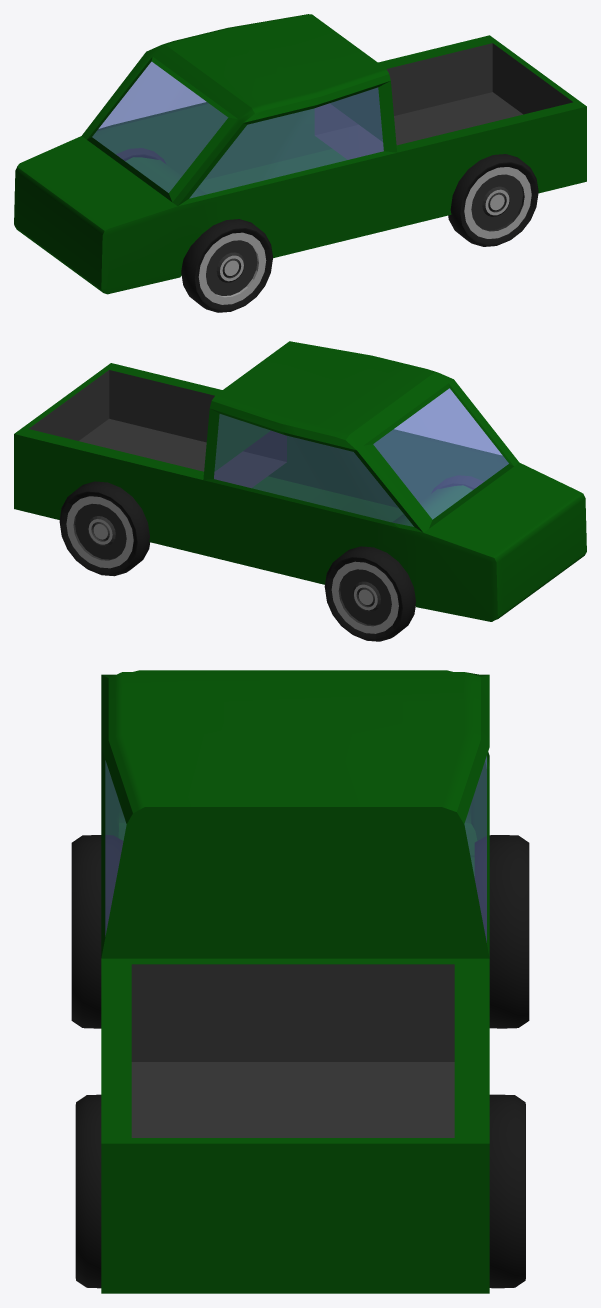
Rendered from car1.fbx.
3 views of the same model, one above another, from view 1: azimuth 30°, elevation 25°; view 2: azimuth 150°, elevation 25°; view 3: azimuth 270°, elevation 25° (orthographic). The views are drawn at different scales.
Parts seen in each view (by area): view 1: group55_pCube175; view 2: group55_pCube175; view 3: group55_pCube175.
Boxes of the visible parts, bbox=[...] form: group55_pCube175: bbox=[14, 14, 586, 312]; group55_pCube175: bbox=[14, 341, 586, 641]; group55_pCube175: bbox=[71, 670, 529, 1293].
Size of the model in its own units: 12.35 by 4.67 by 5.1.
